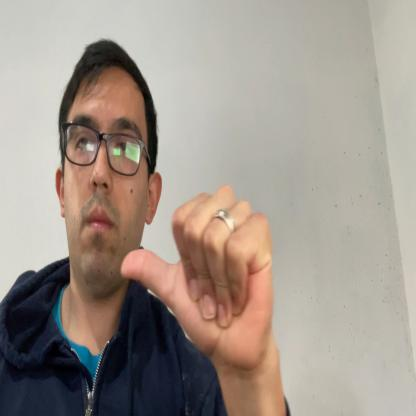A: (118, 180, 274, 371)
